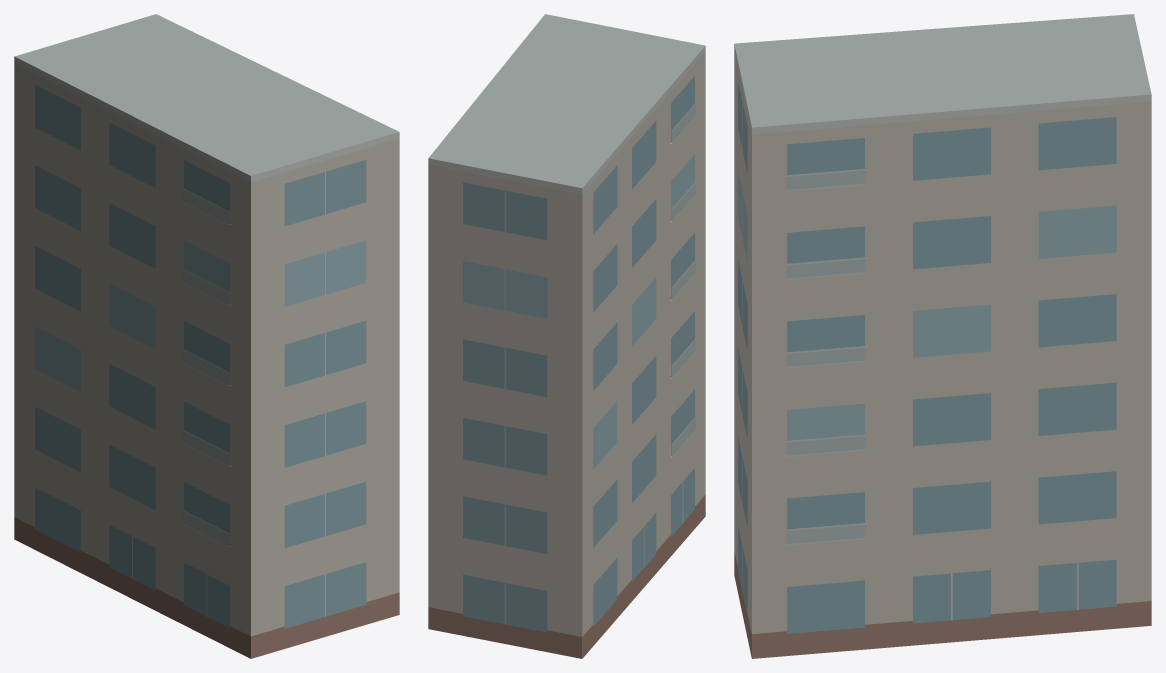
The model's file is survey-upis-32746591.glb.
3 views of the same model, side by side, from view 1: azimuth 30°, elevation 25°; view 2: azimuth 150°, elevation 25°; view 3: azimuth 270°, elevation 25° (orthographic). The views are drawn at different scales.
Parts seen in each view (by area): view 1: survey-upis-32746591.tmp; view 2: survey-upis-32746591.tmp; view 3: survey-upis-32746591.tmp.
Boxes of the visible parts, x1,y1,x2,y2 form: survey-upis-32746591.tmp: (14, 14, 399, 658); survey-upis-32746591.tmp: (428, 14, 705, 658); survey-upis-32746591.tmp: (734, 14, 1151, 658).
Bounding box in the file's own units: 8.4 × 18.3 × 13.04.
